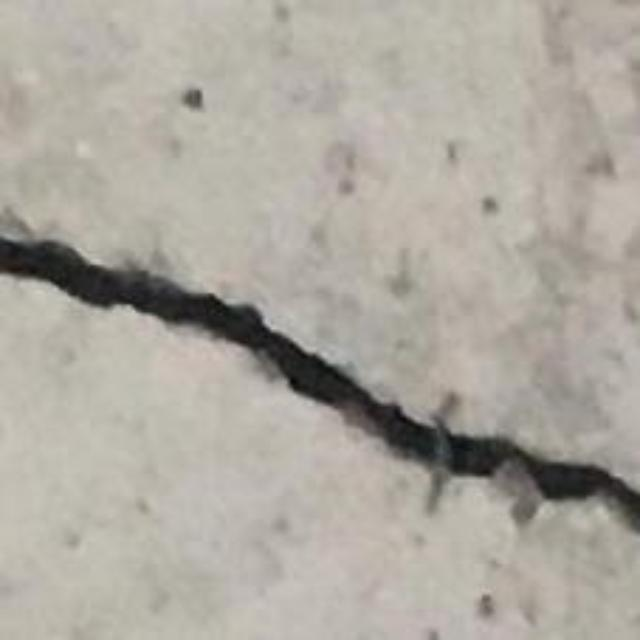crack: (0, 235, 639, 530)
